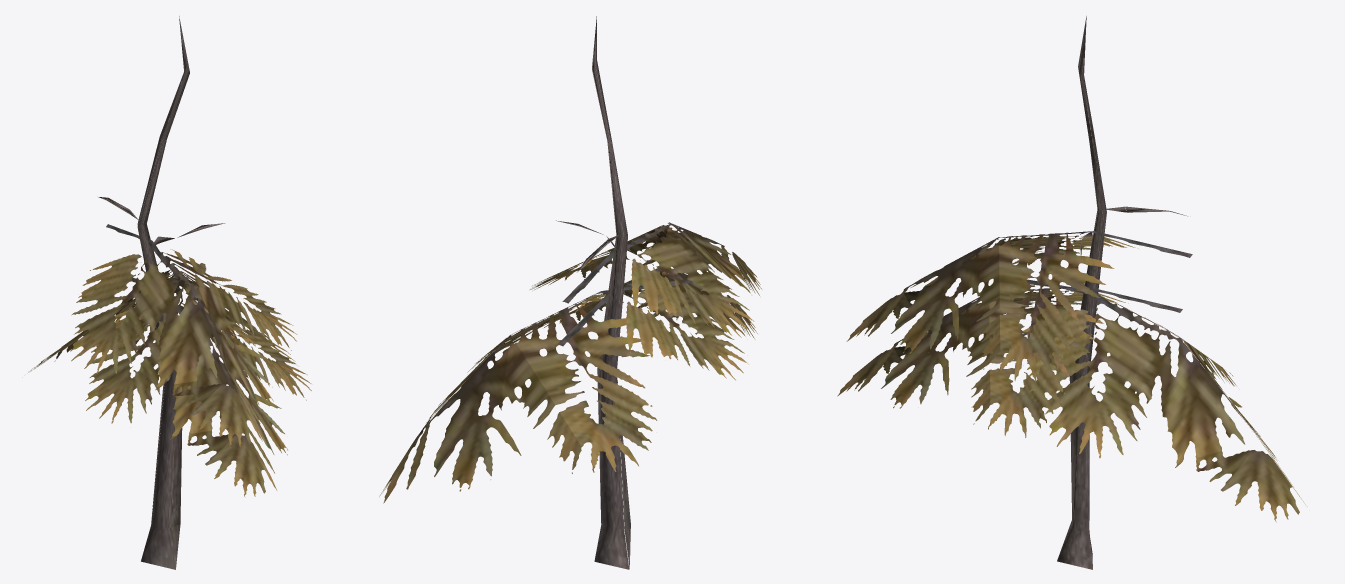
The picture shows the model from 3 angles, left to right: view 1: azimuth 30°, elevation 25°; view 2: azimuth 150°, elevation 25°; view 3: azimuth 270°, elevation 25°; orthographic projection. The views are drawn at different scales.
Parts seen in each view (by area): view 1: tree3; view 2: tree3; view 3: tree3.
Part boxes in pixels (box(x1,y1,x2,y2)): tree3: box(28, 16, 311, 569); tree3: box(379, 16, 761, 569); tree3: box(837, 16, 1305, 569).
Bounding box in the file's own units: 3.65 × 6.49 × 5.51.
1 material, 1 textured.
